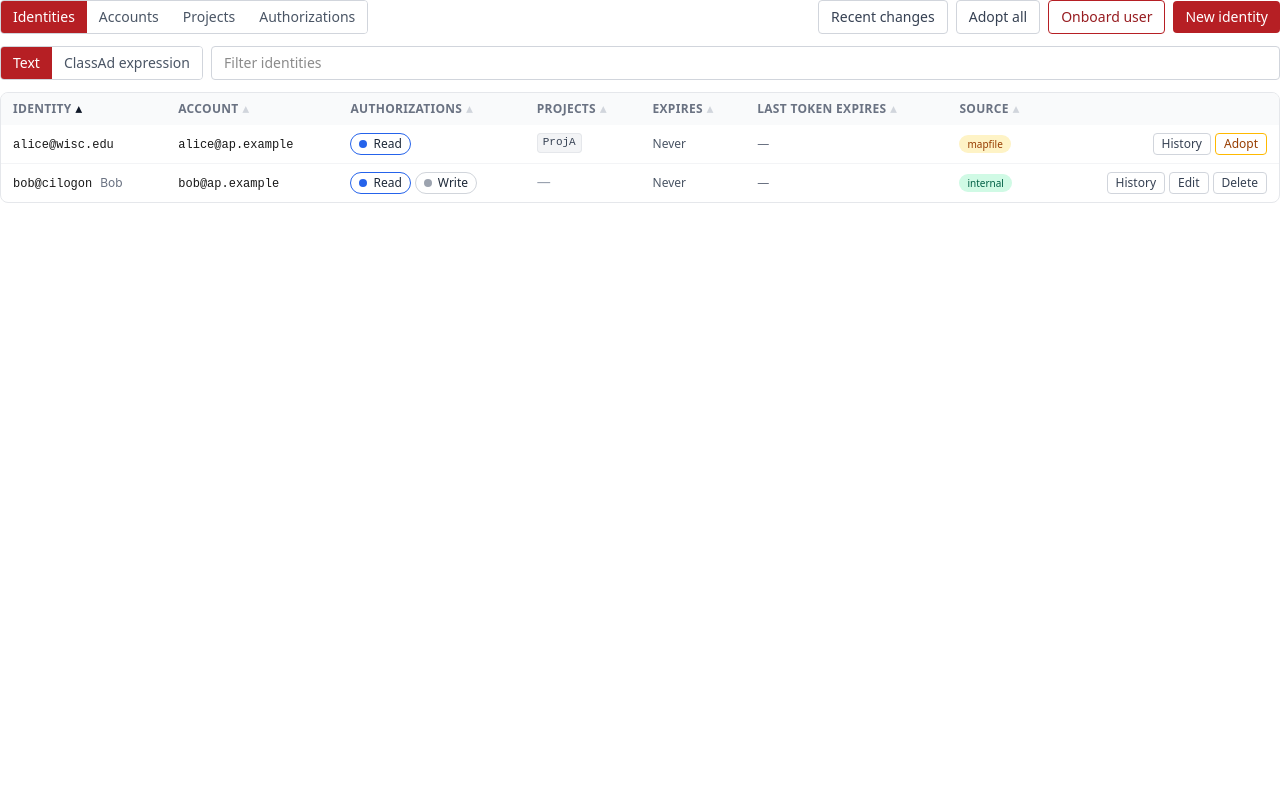
Scenario: Directory › says to reload when the row changed since it was loaded
This screenshot has width=1280, height=800.
Click the button "Edit" at (1189,183), box x1=1169 y1=172 x2=1208 y2=194
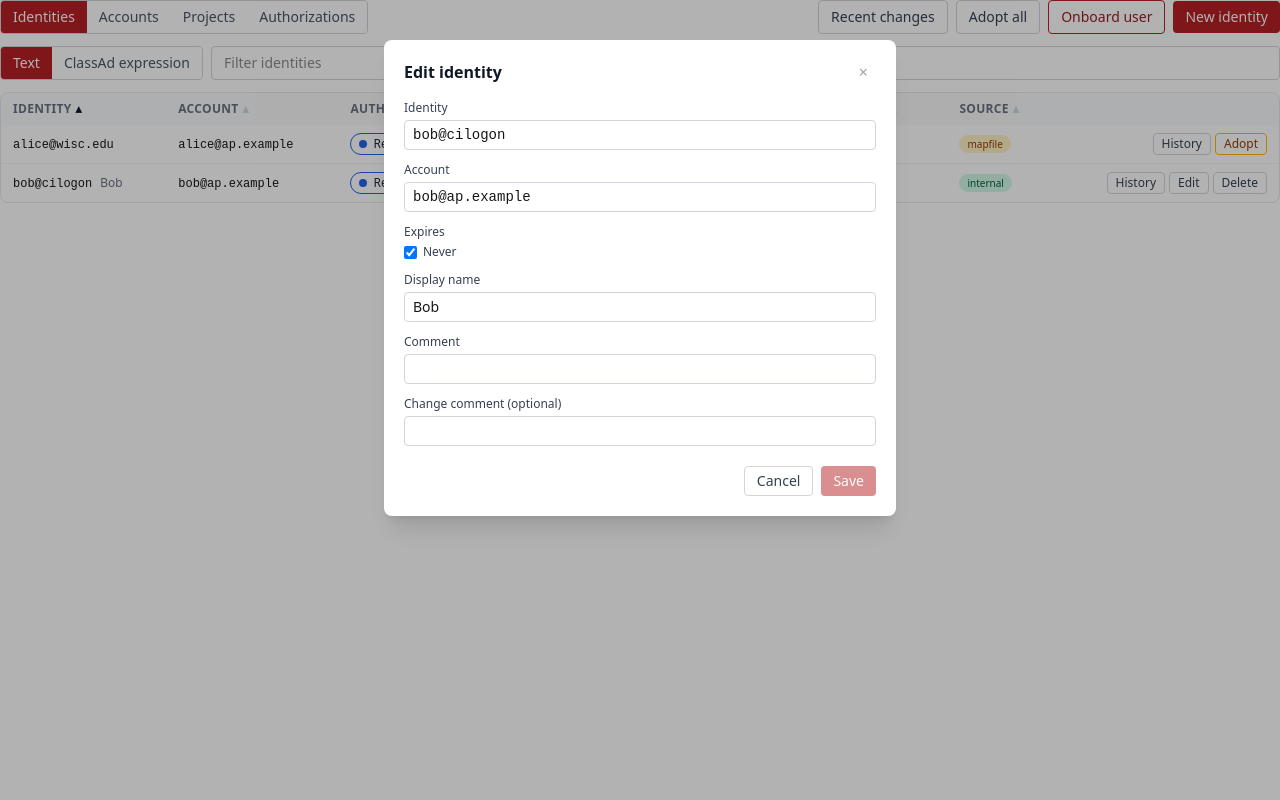
Type "x" into the field labelled "Comment" at (640,369), box x1=404 y1=354 x2=876 y2=384
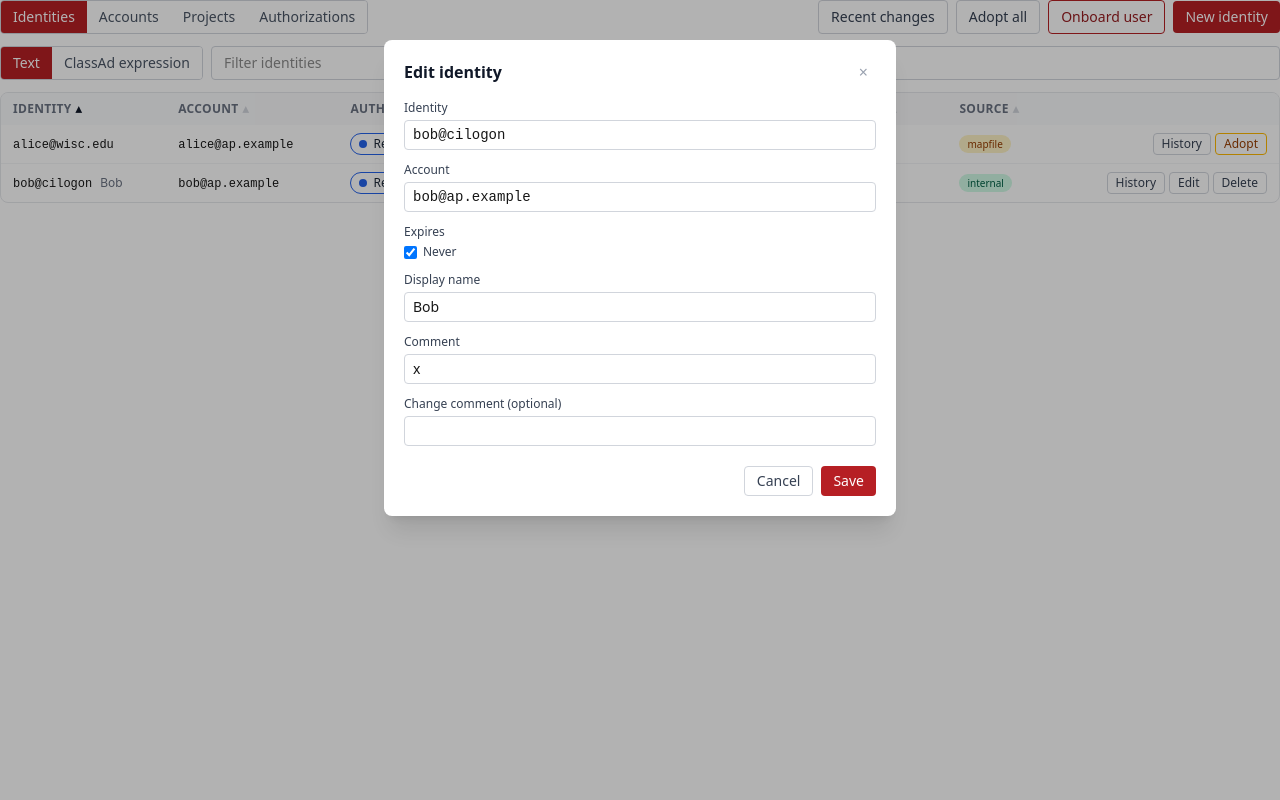
Click the button "Save" at (849,481), box x1=821 y1=466 x2=876 y2=496
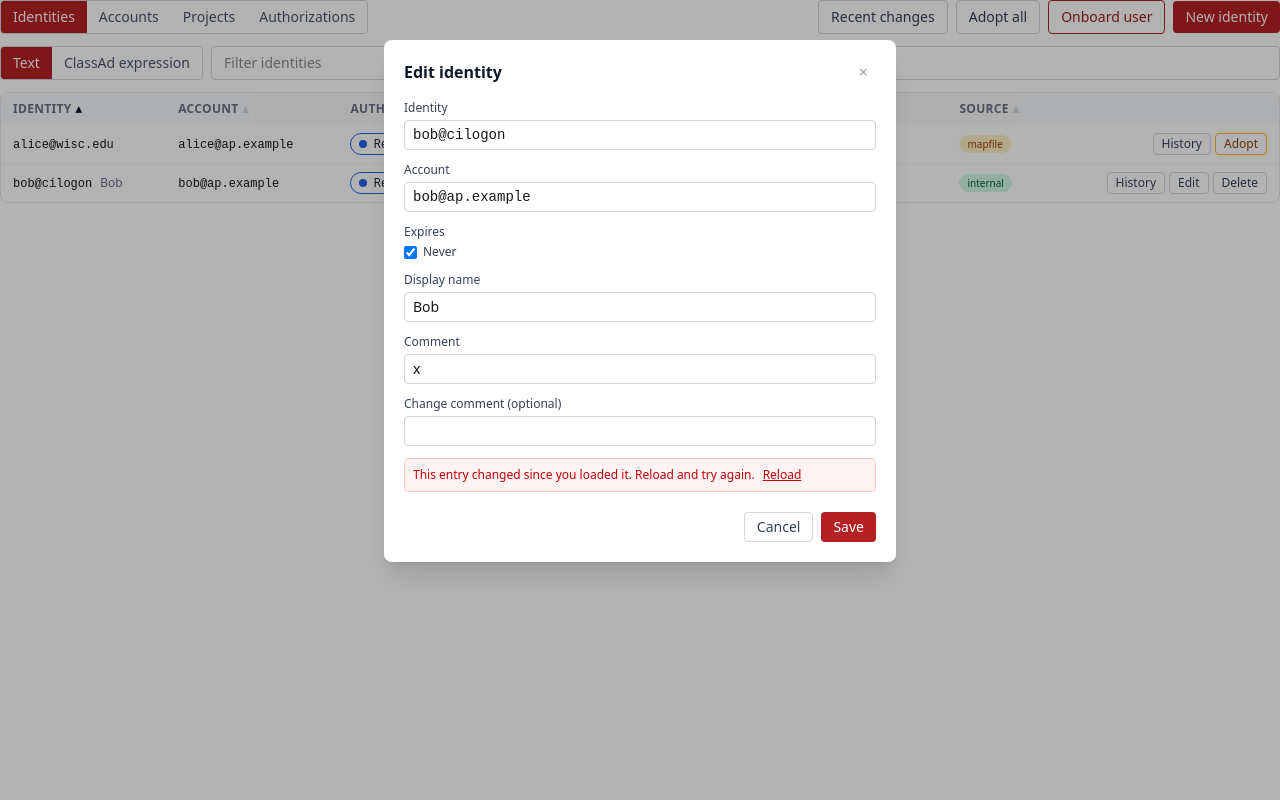
Expected: the text "This entry changed since you loaded it. Reload and try again. Reload" is shown, x1=404 y1=458 x2=876 y2=492
Click the button "Reload" at (782,475), box x1=763 y1=467 x2=801 y2=483
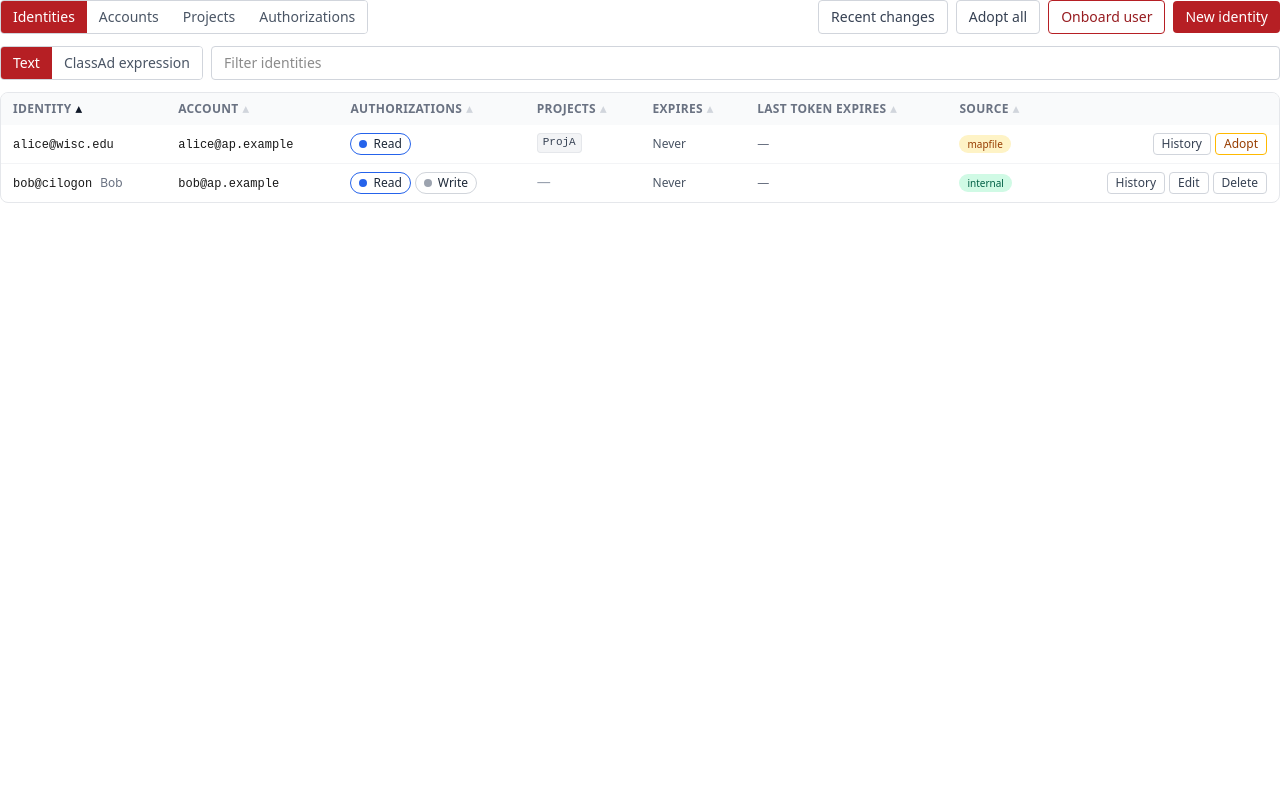
Expected: the dialog is gone
